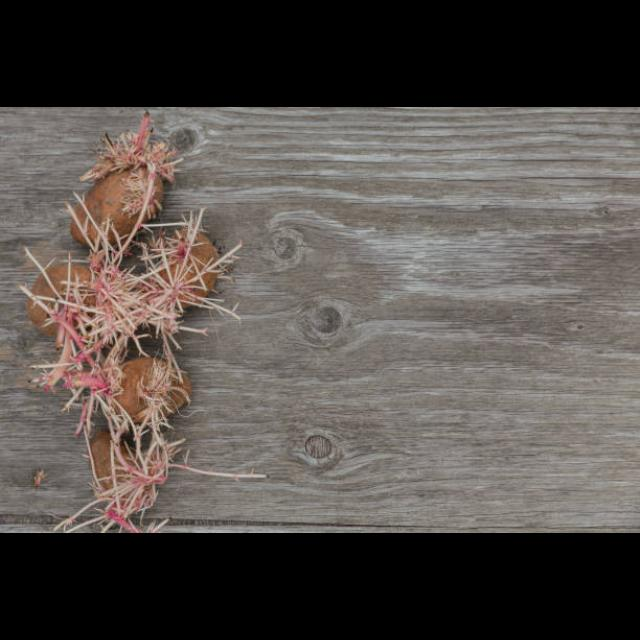Sprouted potato: (110, 212, 250, 326), (68, 124, 168, 250), (13, 246, 109, 348), (81, 414, 172, 520), (92, 342, 188, 434)
